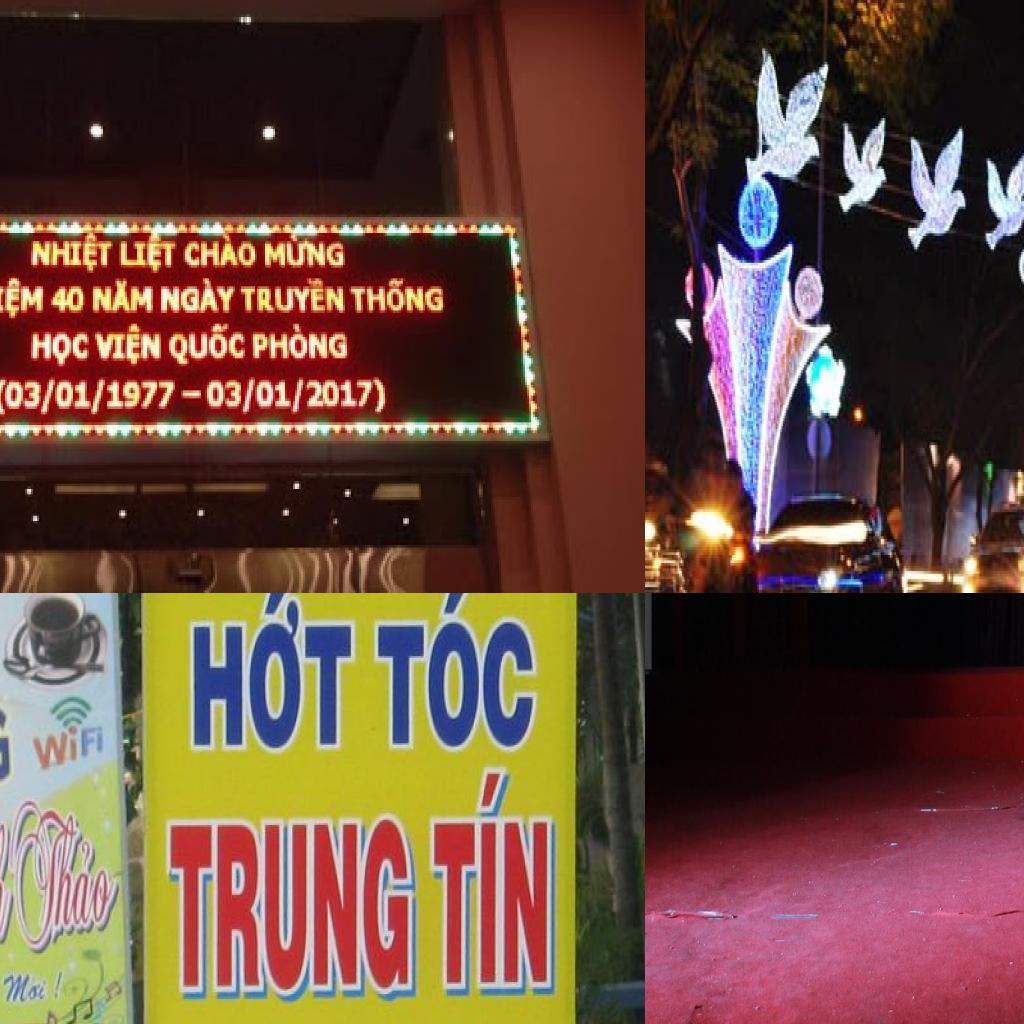text: (169, 813, 415, 1001), (432, 769, 554, 994), (189, 593, 358, 749), (374, 593, 538, 753), (10, 800, 120, 962), (237, 276, 347, 316), (27, 230, 115, 278), (251, 324, 351, 364), (167, 321, 249, 369), (349, 276, 447, 316), (32, 721, 104, 774), (261, 230, 347, 270), (93, 321, 163, 369), (159, 276, 237, 316), (183, 230, 259, 270), (117, 233, 179, 276), (105, 377, 177, 414), (91, 278, 155, 316), (29, 332, 93, 369), (0, 275, 47, 321), (0, 377, 43, 419), (3, 972, 50, 1004), (255, 377, 293, 412), (51, 284, 87, 318), (55, 380, 93, 412), (207, 380, 243, 412), (39, 380, 59, 420), (89, 377, 107, 420), (243, 380, 259, 417), (291, 380, 307, 414), (54, 968, 67, 1006)
